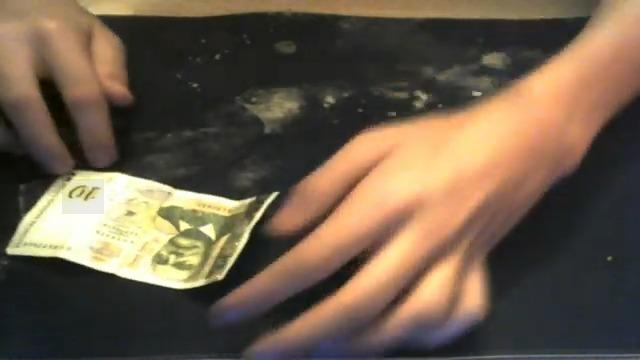10leva: (62, 179, 104, 214)
